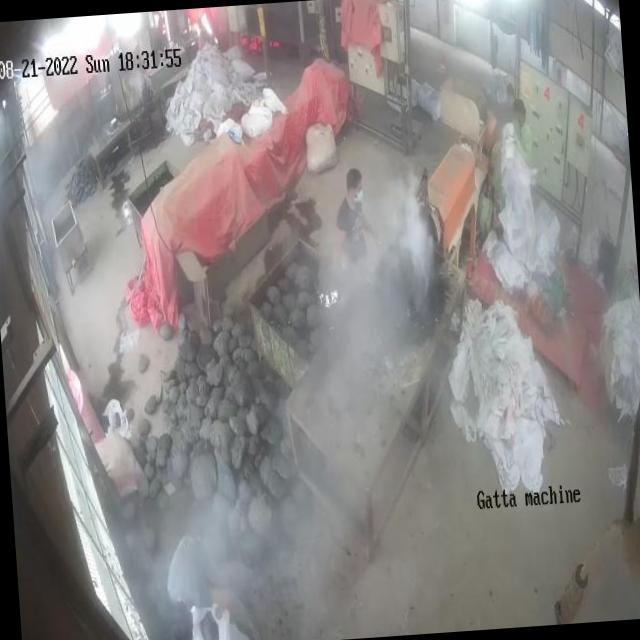person: (336, 163, 378, 271), (512, 93, 536, 163)
